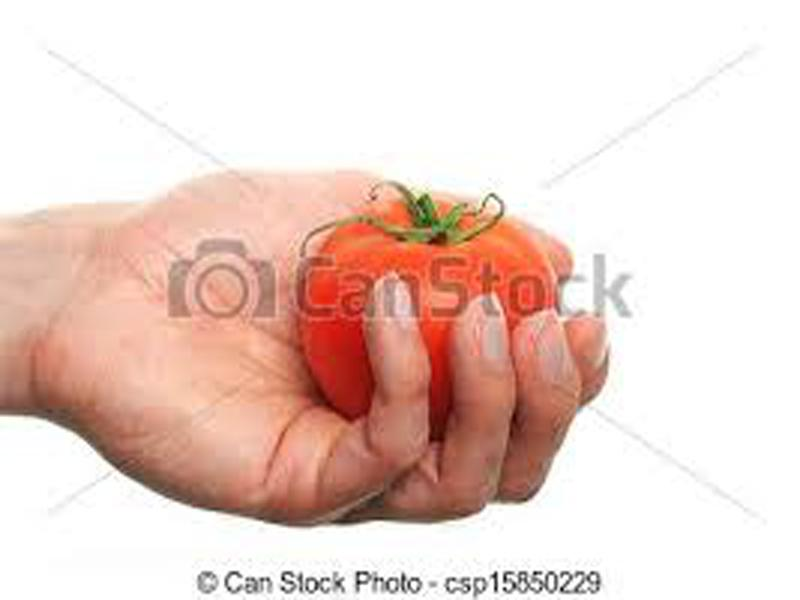Tomato: (306, 200, 557, 432)
